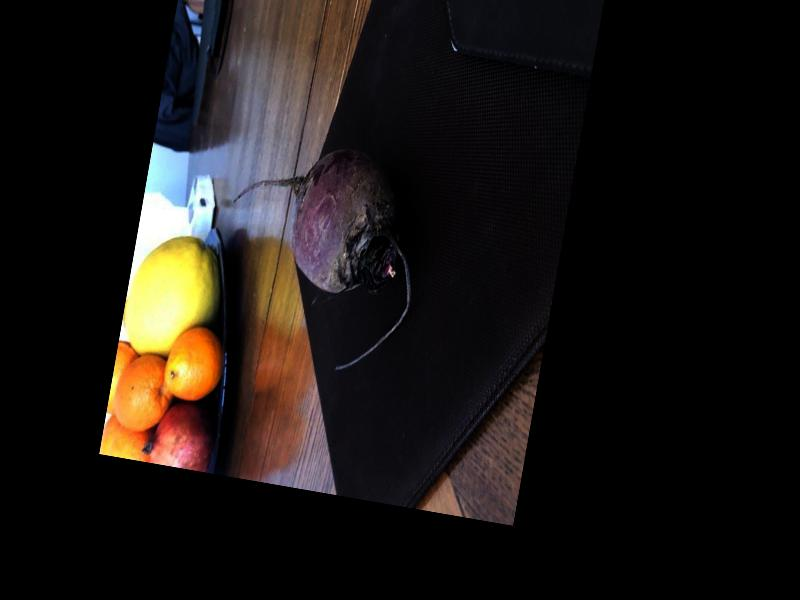Beet: (207, 130, 434, 380)
